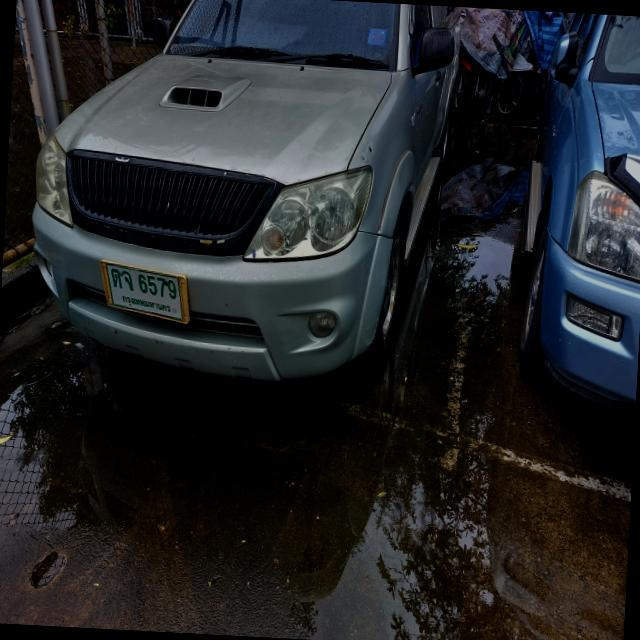license_plate: (96, 257, 196, 326)
